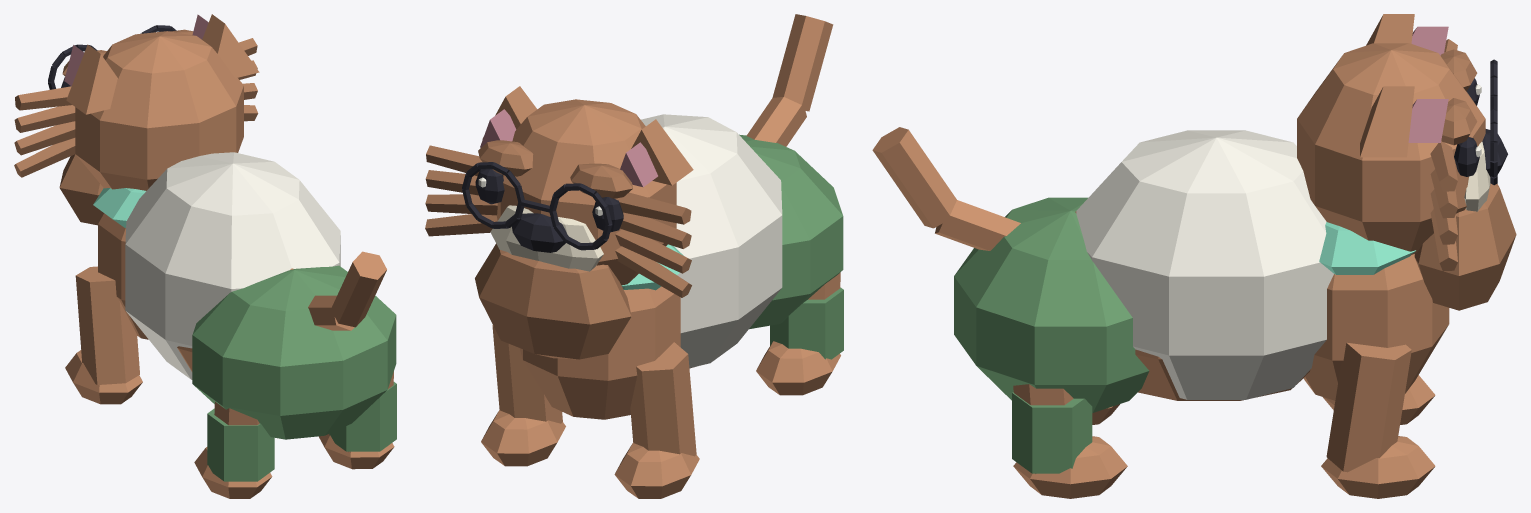
Rendered from brussels_griffon.glb.
3 renders of one model, left to right at view 1: azimuth 30°, elevation 25°; view 2: azimuth 150°, elevation 25°; view 3: azimuth 270°, elevation 25°, orthographic. The views are drawn at different scales.
Visible parts, largest first — view 1: BodyMesh, HeadMesh; view 2: BodyMesh, HeadMesh; view 3: BodyMesh, HeadMesh.
Boxes of the visible parts, x1=… form: BodyMesh: x1=65, y1=152, x2=396, y2=498; HeadMesh: x1=14, y1=14, x2=259, y2=225; BodyMesh: x1=481, y1=14, x2=843, y2=498; HeadMesh: x1=425, y1=86, x2=693, y2=359; BodyMesh: x1=872, y1=127, x2=1449, y2=498; HeadMesh: x1=1297, y1=14, x2=1516, y2=310.
Bounding box in the file's own units: 0.6302 × 0.865 × 1.23.
